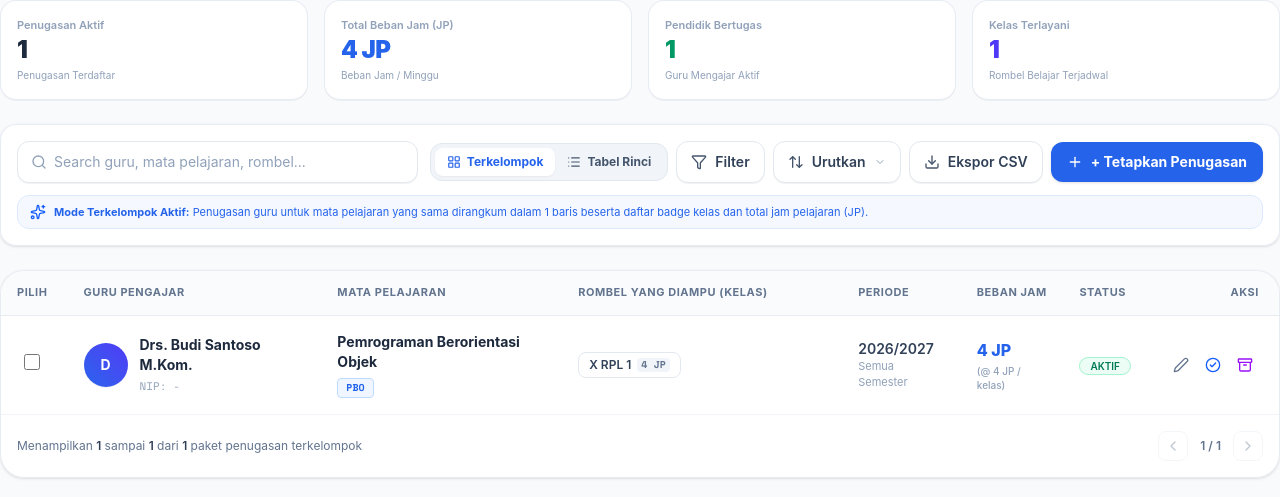
Scenario: M08 — Teacher Presentation Views & Tabs (Academic Glass UI v1.2) › keeps the teaching-assignment filter popover above the table without clipping
Click the button "Filter".
click(720, 162)  # box 676,140 -> 765,182
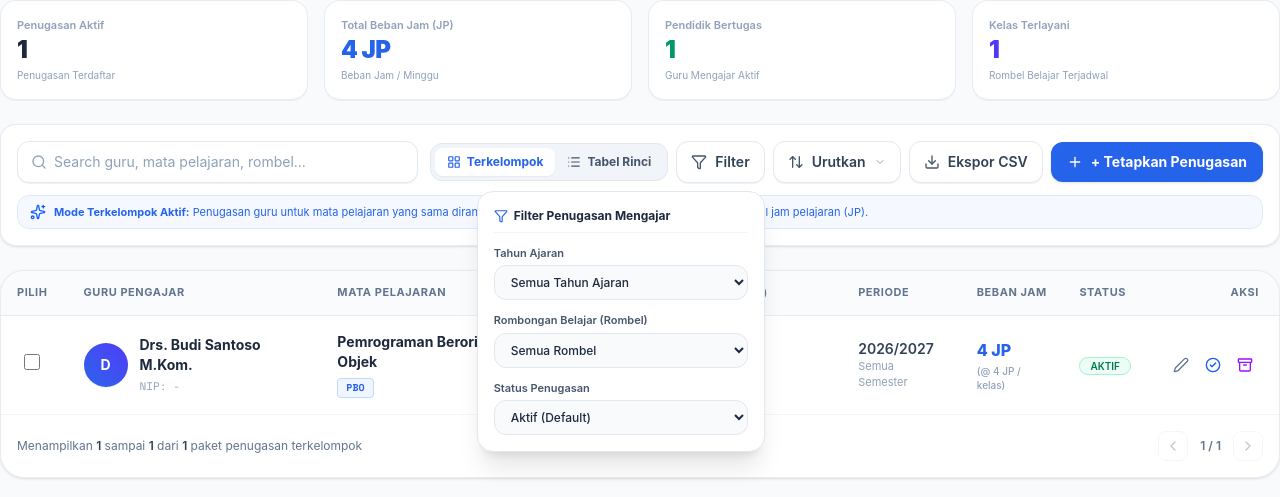
Result: the text "Filter Penugasan Mengajar" is shown at 494,208 -> 670,224
